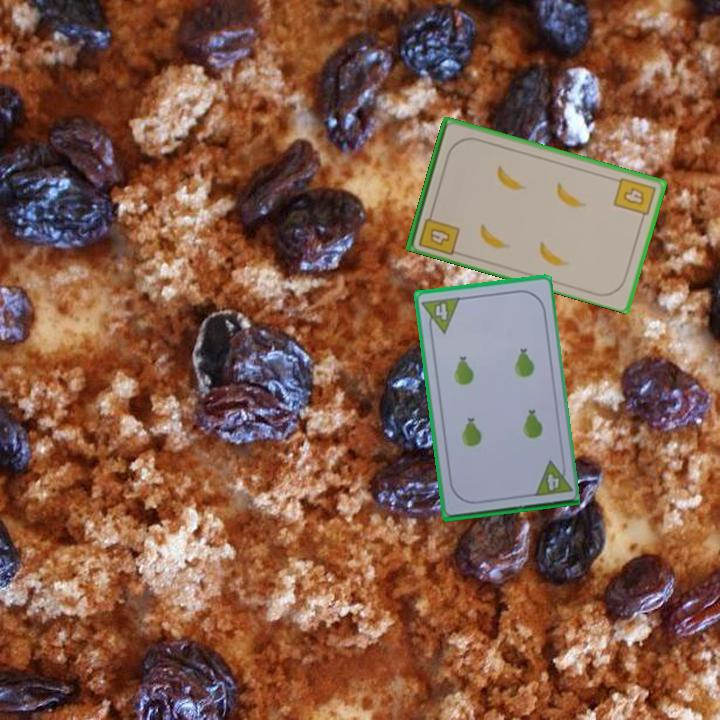4b: (415, 206, 462, 258), (610, 174, 658, 224)
4p: (418, 293, 463, 337), (529, 456, 574, 499)
